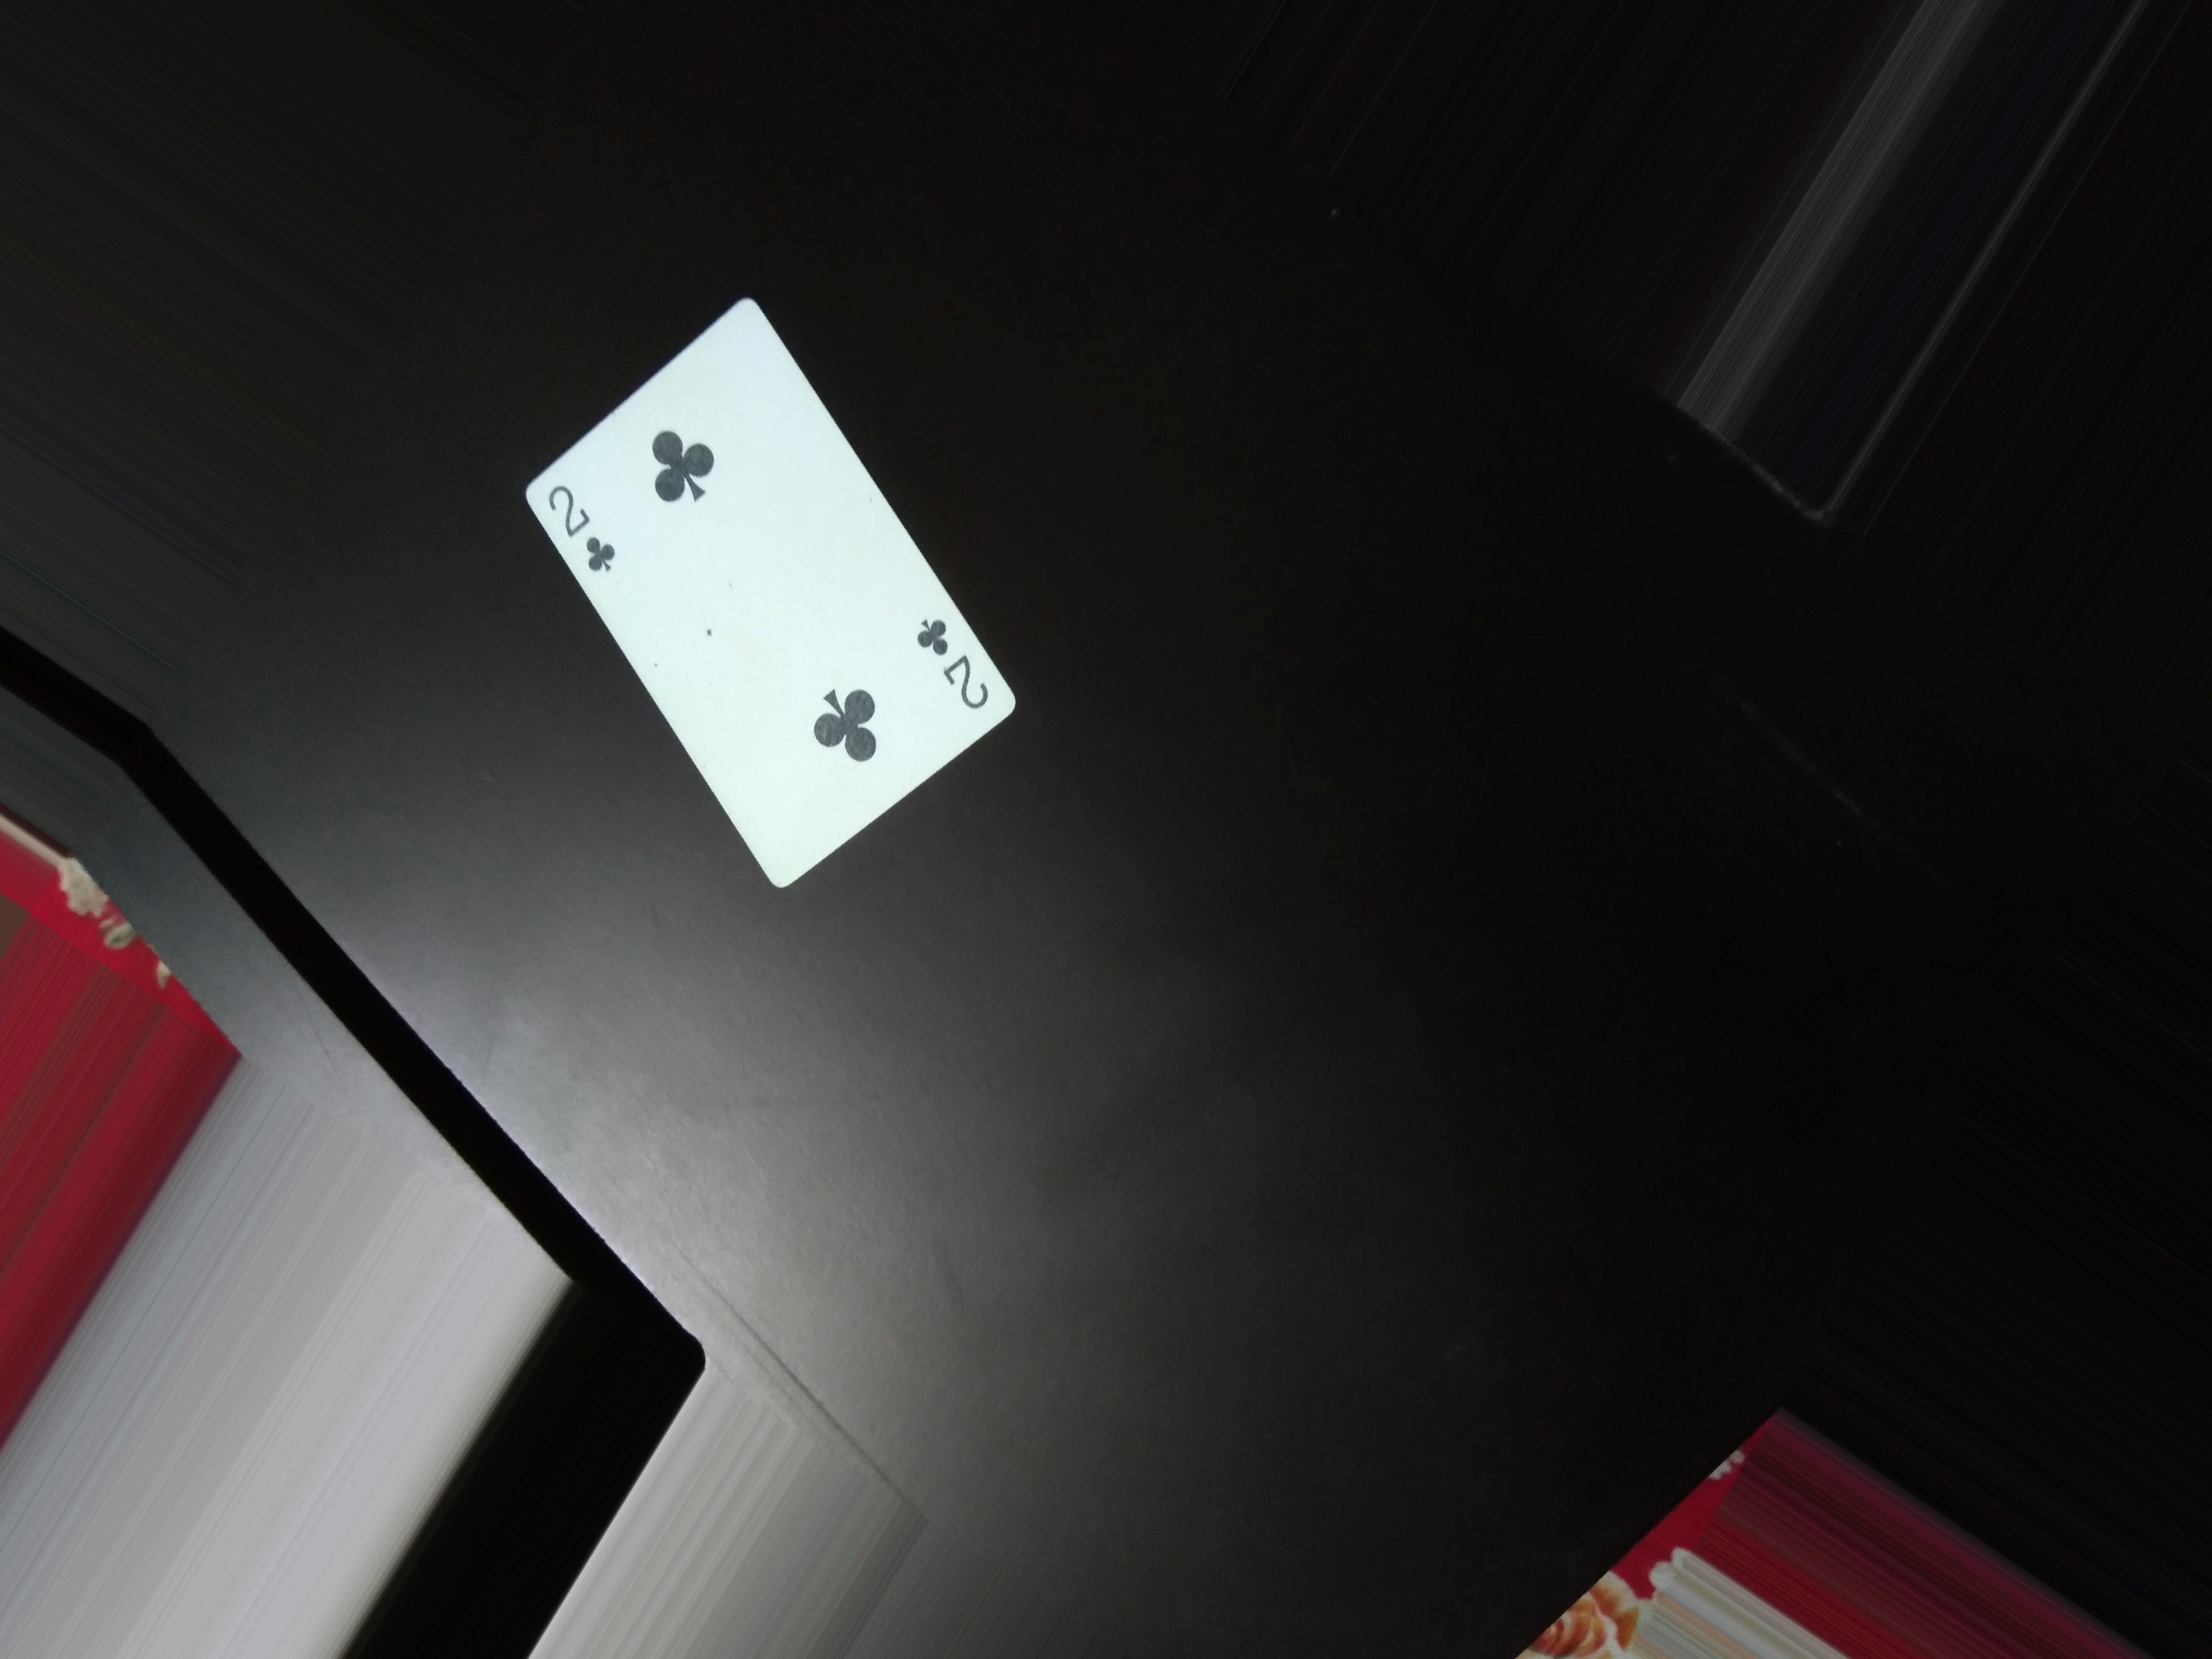2C: (535, 474, 622, 579)
